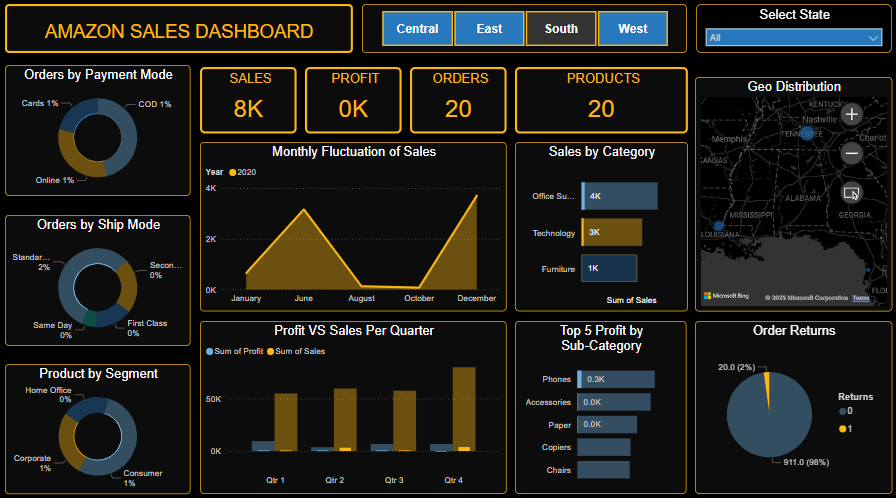

What the dashboard file says about the page in this screenshot:
{"tool":"powerbi","page":{"name":"Page 1","canvas":[1280,720],"ordinal":0},"visuals":[{"type":"clusteredBarChart","title":"Sales by Category","fields":{"Category":["Sheet1.Category"],"Y":["Sum(Sheet1.Sales)"]},"box":[735,203.3,246.7,241.7],"z":0},{"type":"clusteredBarChart","title":"Top 5 Profit by Sub-Category","fields":{"Y":["Sum(Sheet1.Profit)"],"Category":["Sheet1.Sub-Category"]},"box":[735,458.3,245,246.7],"z":1000},{"type":"donutChart","title":"Orders by Payment Mode","fields":{"Category":["Sheet1.Payment Mode"],"Y":["CountNonNull(Sheet1.Order ID)"]},"box":[6.7,93.3,265,186.7],"z":2000},{"type":"donutChart","title":"Orders by Ship Mode","fields":{"Y":["CountNonNull(Sheet1.Order ID)"],"Category":["Sheet1.Ship Mode"]},"box":[6.7,306.7,265,186.7],"z":3000},{"type":"donutChart","title":"Product by Segment","fields":{"Category":["Sheet1.Segment"],"Y":["CountNonNull(Sheet1.Product ID)"]},"box":[7.1,520.2,265,185.7],"z":4000},{"type":"map","title":"Geo Distribution","fields":{"Category":["Sheet1.State"],"Size":["Sum(Sheet1.Sales)"]},"box":[993.3,110,281.7,335],"z":5000},{"type":"pieChart","title":"Order Returns","fields":{"Category":["Sheet1.Returns"],"Y":["CountNonNull(Sheet1.Order ID)"]},"box":[993.3,458.3,281.7,246.7],"z":6000},{"type":"stackedAreaChart","title":"Monthly Fluctuation of Sales","fields":{"Category":["Sheet1.Order Date.Variation.Date Hierarchy.Month"],"Y":["Sum(Sheet1.Sales)"],"Series":["Sheet1.Order Date.Variation.Date Hierarchy.Year"]},"box":[285,203.3,438.3,241.7],"z":7000},{"type":"clusteredColumnChart","title":"Profit VS Sales Per Quarter","fields":{"Category":["Sheet1.Order Date.Variation.Date Hierarchy.Quarter"],"Y":["Sum(Sheet1.Profit)","Sum(Sheet1.Sales)"]},"box":[285,458.3,438.3,246.7],"z":8000},{"type":"slicer","fields":{"Values":["Sheet1.Region"]},"box":[517.1,5.7,464.3,70],"z":9000},{"type":"slicer","title":"Select State","fields":{"Values":["Sheet1.State"]},"box":[994,5.3,280,70],"z":10000},{"type":"card","title":"SALES","fields":{"Values":["Sum(Sheet1.Sales)"]},"box":[285,95,138.3,95],"z":11000},{"type":"card","title":"PROFIT","fields":{"Values":["Sum(Sheet1.Profit)"]},"box":[435,95,138.3,95],"z":12000},{"type":"card","title":"ORDERS","fields":{"Values":["CountNonNull(Sheet1.Order ID)"]},"box":[585,95,138.3,95],"z":13000},{"type":"card","title":"PRODUCTS","fields":{"Values":["Count(Sheet1.Product ID)"]},"box":[735,95,246.7,95],"z":14000},{"type":"textbox","box":[7.1,5.7,497.1,70],"z":15000}]}

Visuals, with their boxes in screenshot pixels (x1, y1, x2, y2), scaled from the page's 1280x720 canvas onto the 896x498 screenshot:
"Sales by Category" clusteredBarChart: x1=514 y1=141 x2=687 y2=308
"Top 5 Profit by Sub-Category" clusteredBarChart: x1=514 y1=317 x2=686 y2=488
"Orders by Payment Mode" donutChart: x1=5 y1=65 x2=190 y2=194
"Orders by Ship Mode" donutChart: x1=5 y1=212 x2=190 y2=341
"Product by Segment" donutChart: x1=5 y1=360 x2=190 y2=488
"Geo Distribution" map: x1=695 y1=76 x2=892 y2=308
"Order Returns" pieChart: x1=695 y1=317 x2=892 y2=488
"Monthly Fluctuation of Sales" stackedAreaChart: x1=200 y1=141 x2=506 y2=308
"Profit VS Sales Per Quarter" clusteredColumnChart: x1=200 y1=317 x2=506 y2=488
slicer - Sheet1.Region: x1=362 y1=4 x2=687 y2=52
"Select State" slicer: x1=696 y1=4 x2=892 y2=52
"SALES" card: x1=200 y1=66 x2=296 y2=131
"PROFIT" card: x1=304 y1=66 x2=401 y2=131
"ORDERS" card: x1=410 y1=66 x2=506 y2=131
"PRODUCTS" card: x1=514 y1=66 x2=687 y2=131
textbox: x1=5 y1=4 x2=353 y2=52
